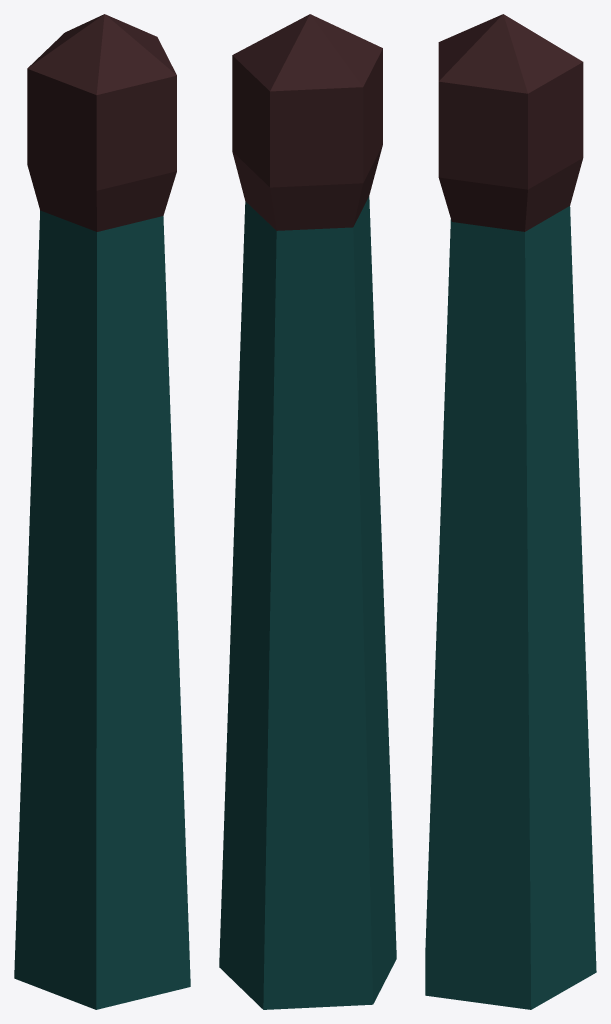
The model's file is flag.glb.
3 renders of one model, left to right at view 1: azimuth 30°, elevation 25°; view 2: azimuth 150°, elevation 25°; view 3: azimuth 270°, elevation 25°, orthographic.
Visible parts, largest first — view 1: flag; view 2: flag; view 3: flag.
Boxes of the visible parts, x1,y1,x2,y2 form: flag: (14, 14, 190, 1009); flag: (219, 14, 396, 1009); flag: (425, 14, 596, 1009).
Size of the model in its own units: 0.2094 by 1.25 by 0.2023.
1 material, 1 textured.
